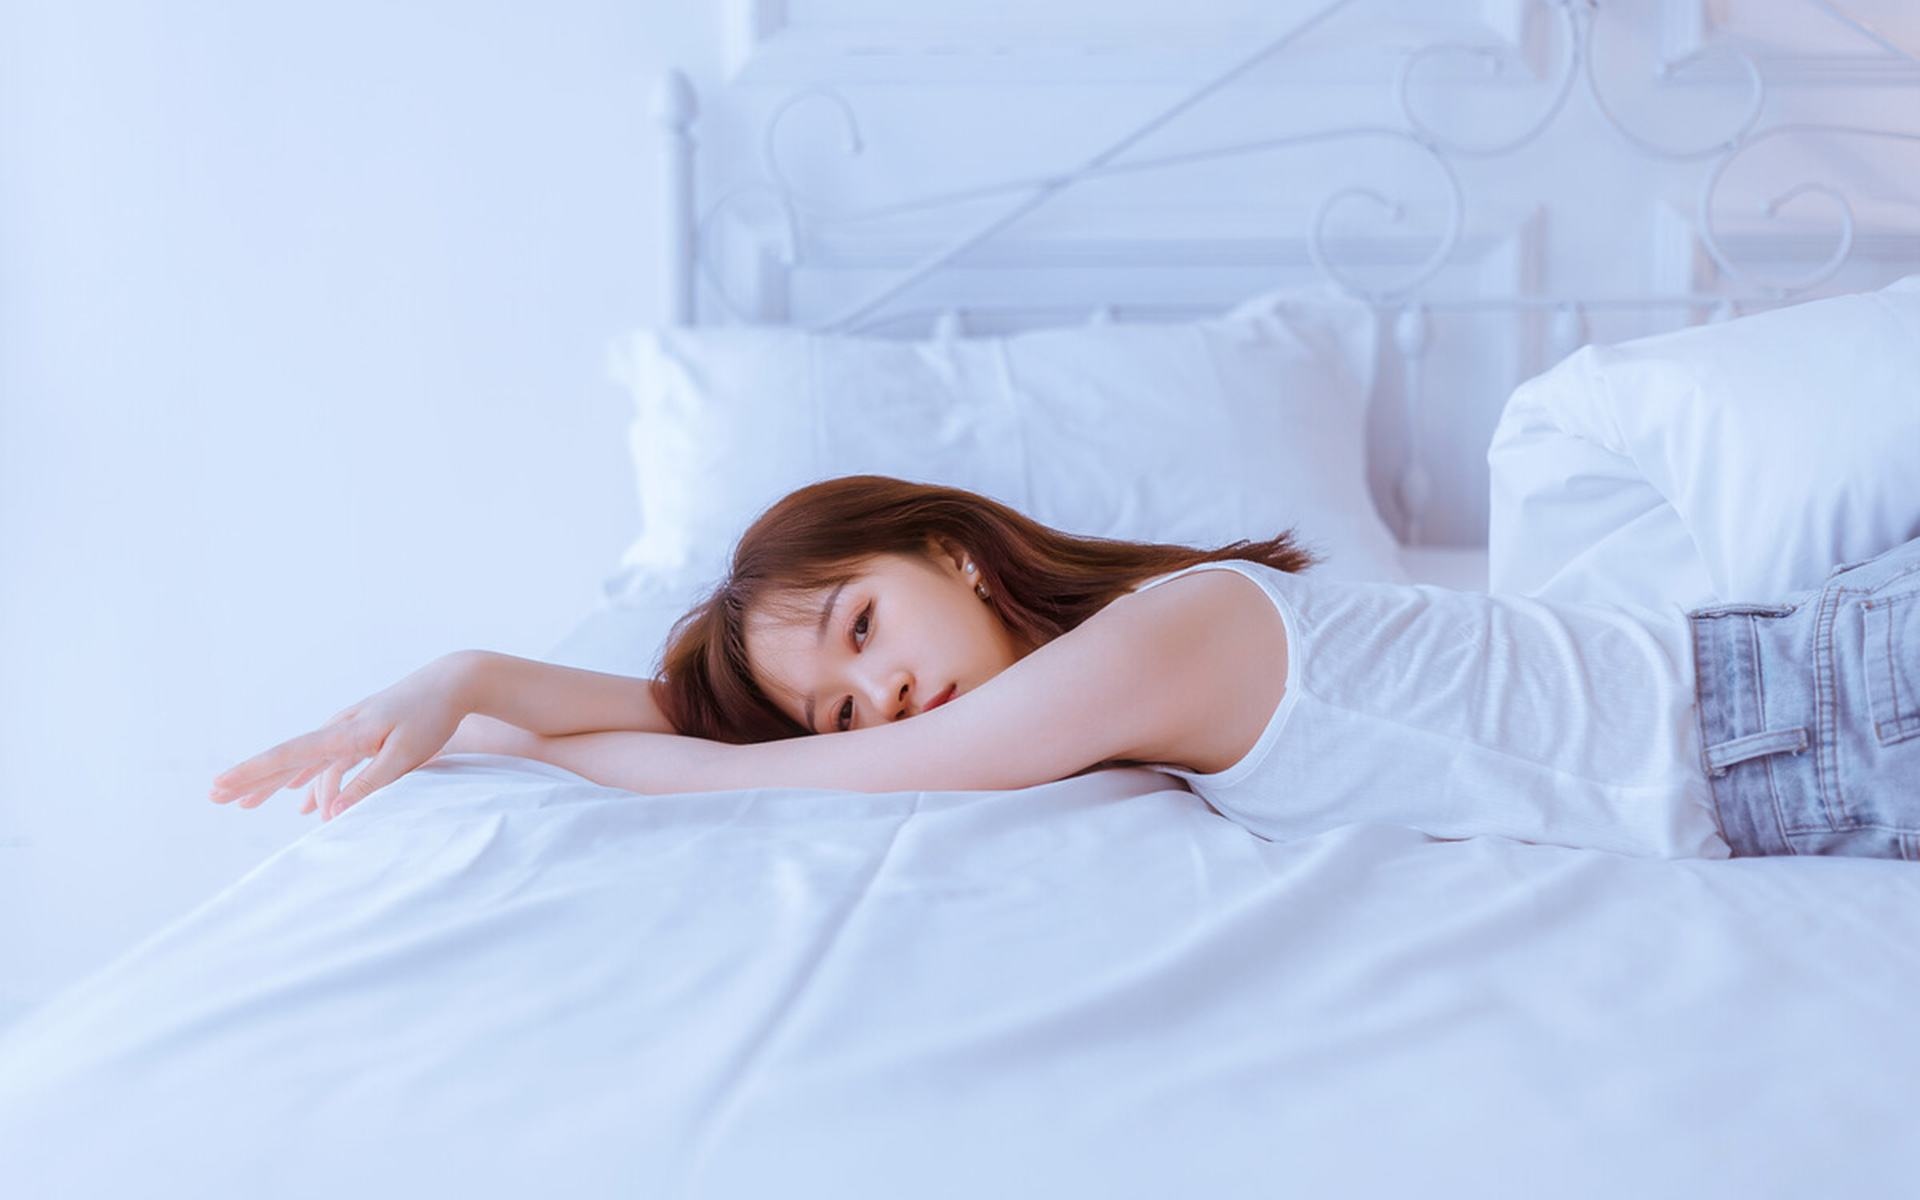person: (422, 323, 1793, 990)
